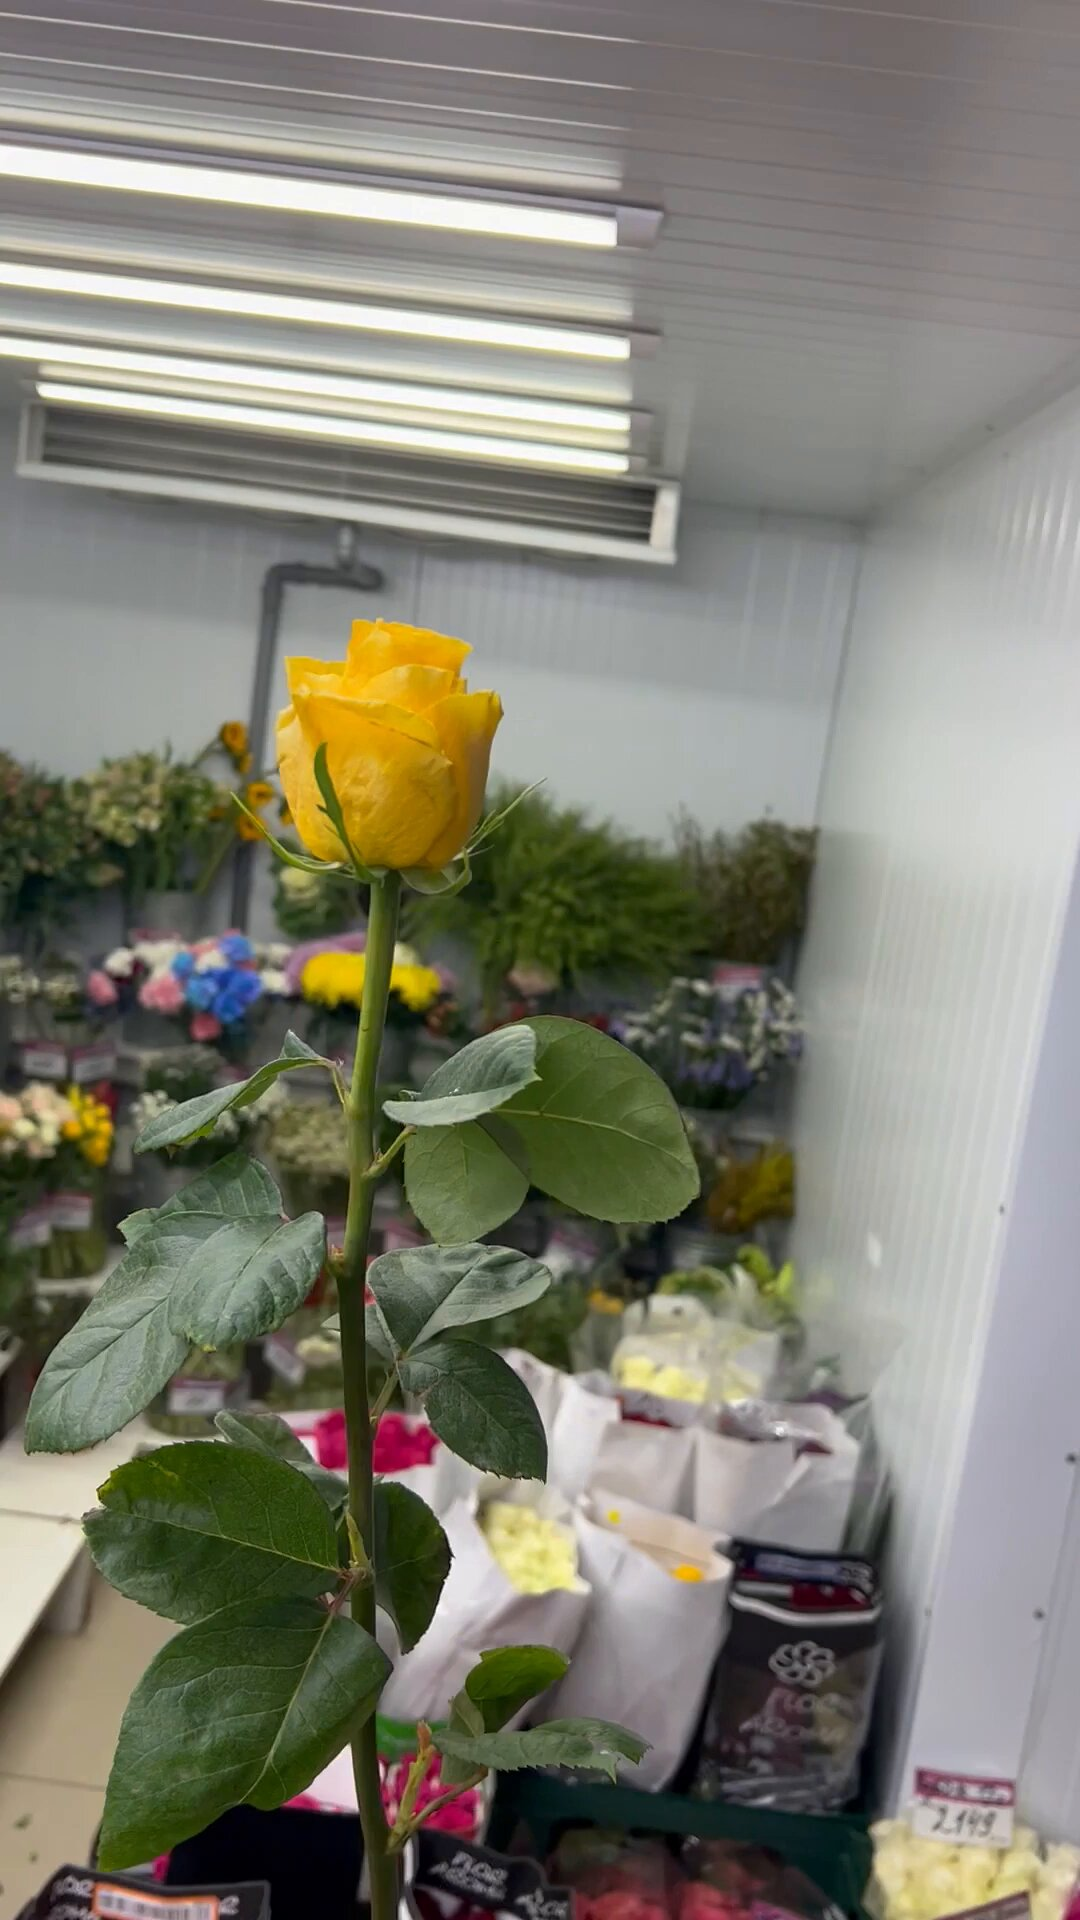rose: (88, 611, 679, 1902)
